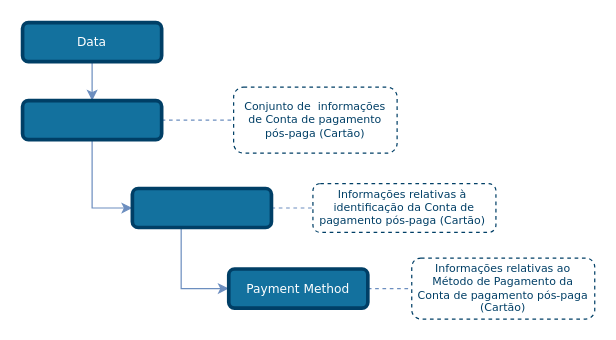
The diagram is 616 pixels wide and 340 high, and some of its shapes have lost their labels. Each missing label, with the centre of its shape:
Credit Card Accounts: pixel 91 119
Identification: pixel 201 207
